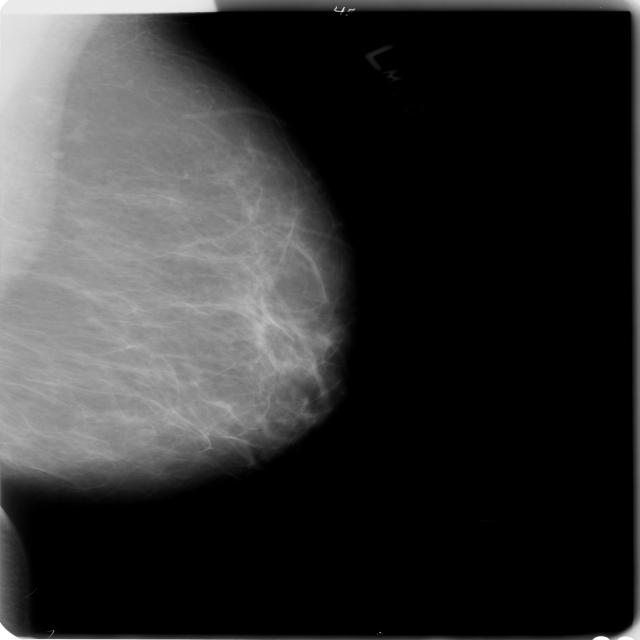normal: (0, 4, 351, 501)
